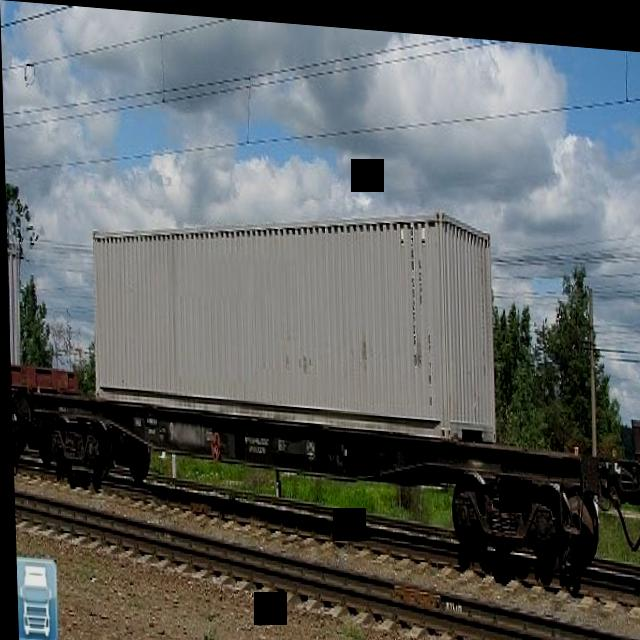container: (86, 172, 499, 433)
flatcar: (26, 392, 604, 548)
